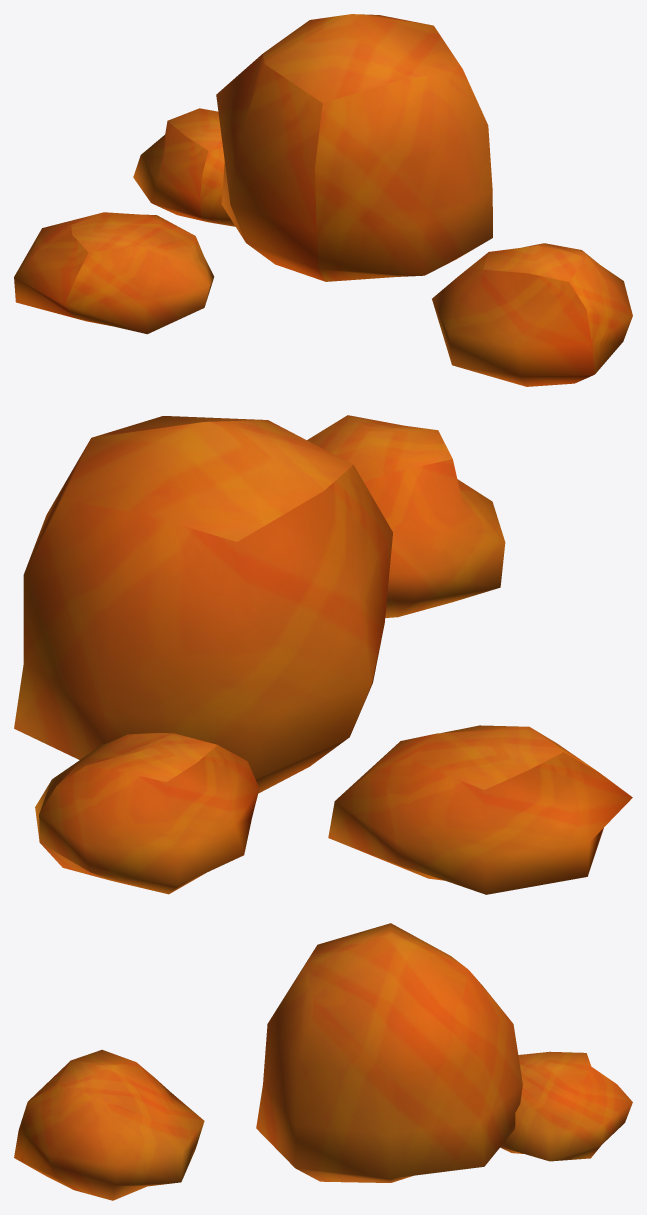
The model's file is pedrinhas4.fbx.
The picture shows the model from 3 angles, top to bottom: view 1: azimuth 30°, elevation 25°; view 2: azimuth 150°, elevation 25°; view 3: azimuth 270°, elevation 25°; orthographic projection. The views are drawn at different scales.
Visible parts, largest first — view 1: pedras1; view 2: pedras1; view 3: pedras1.
Part boxes in pixels (x1,y1,x2,y2): pedras1: (14,14,632,386); pedras1: (14,415,632,894); pedras1: (14,923,632,1200).
Size of the model in its own units: 216 by 120 by 290.
Materials: 1 (1 with a texture image).
